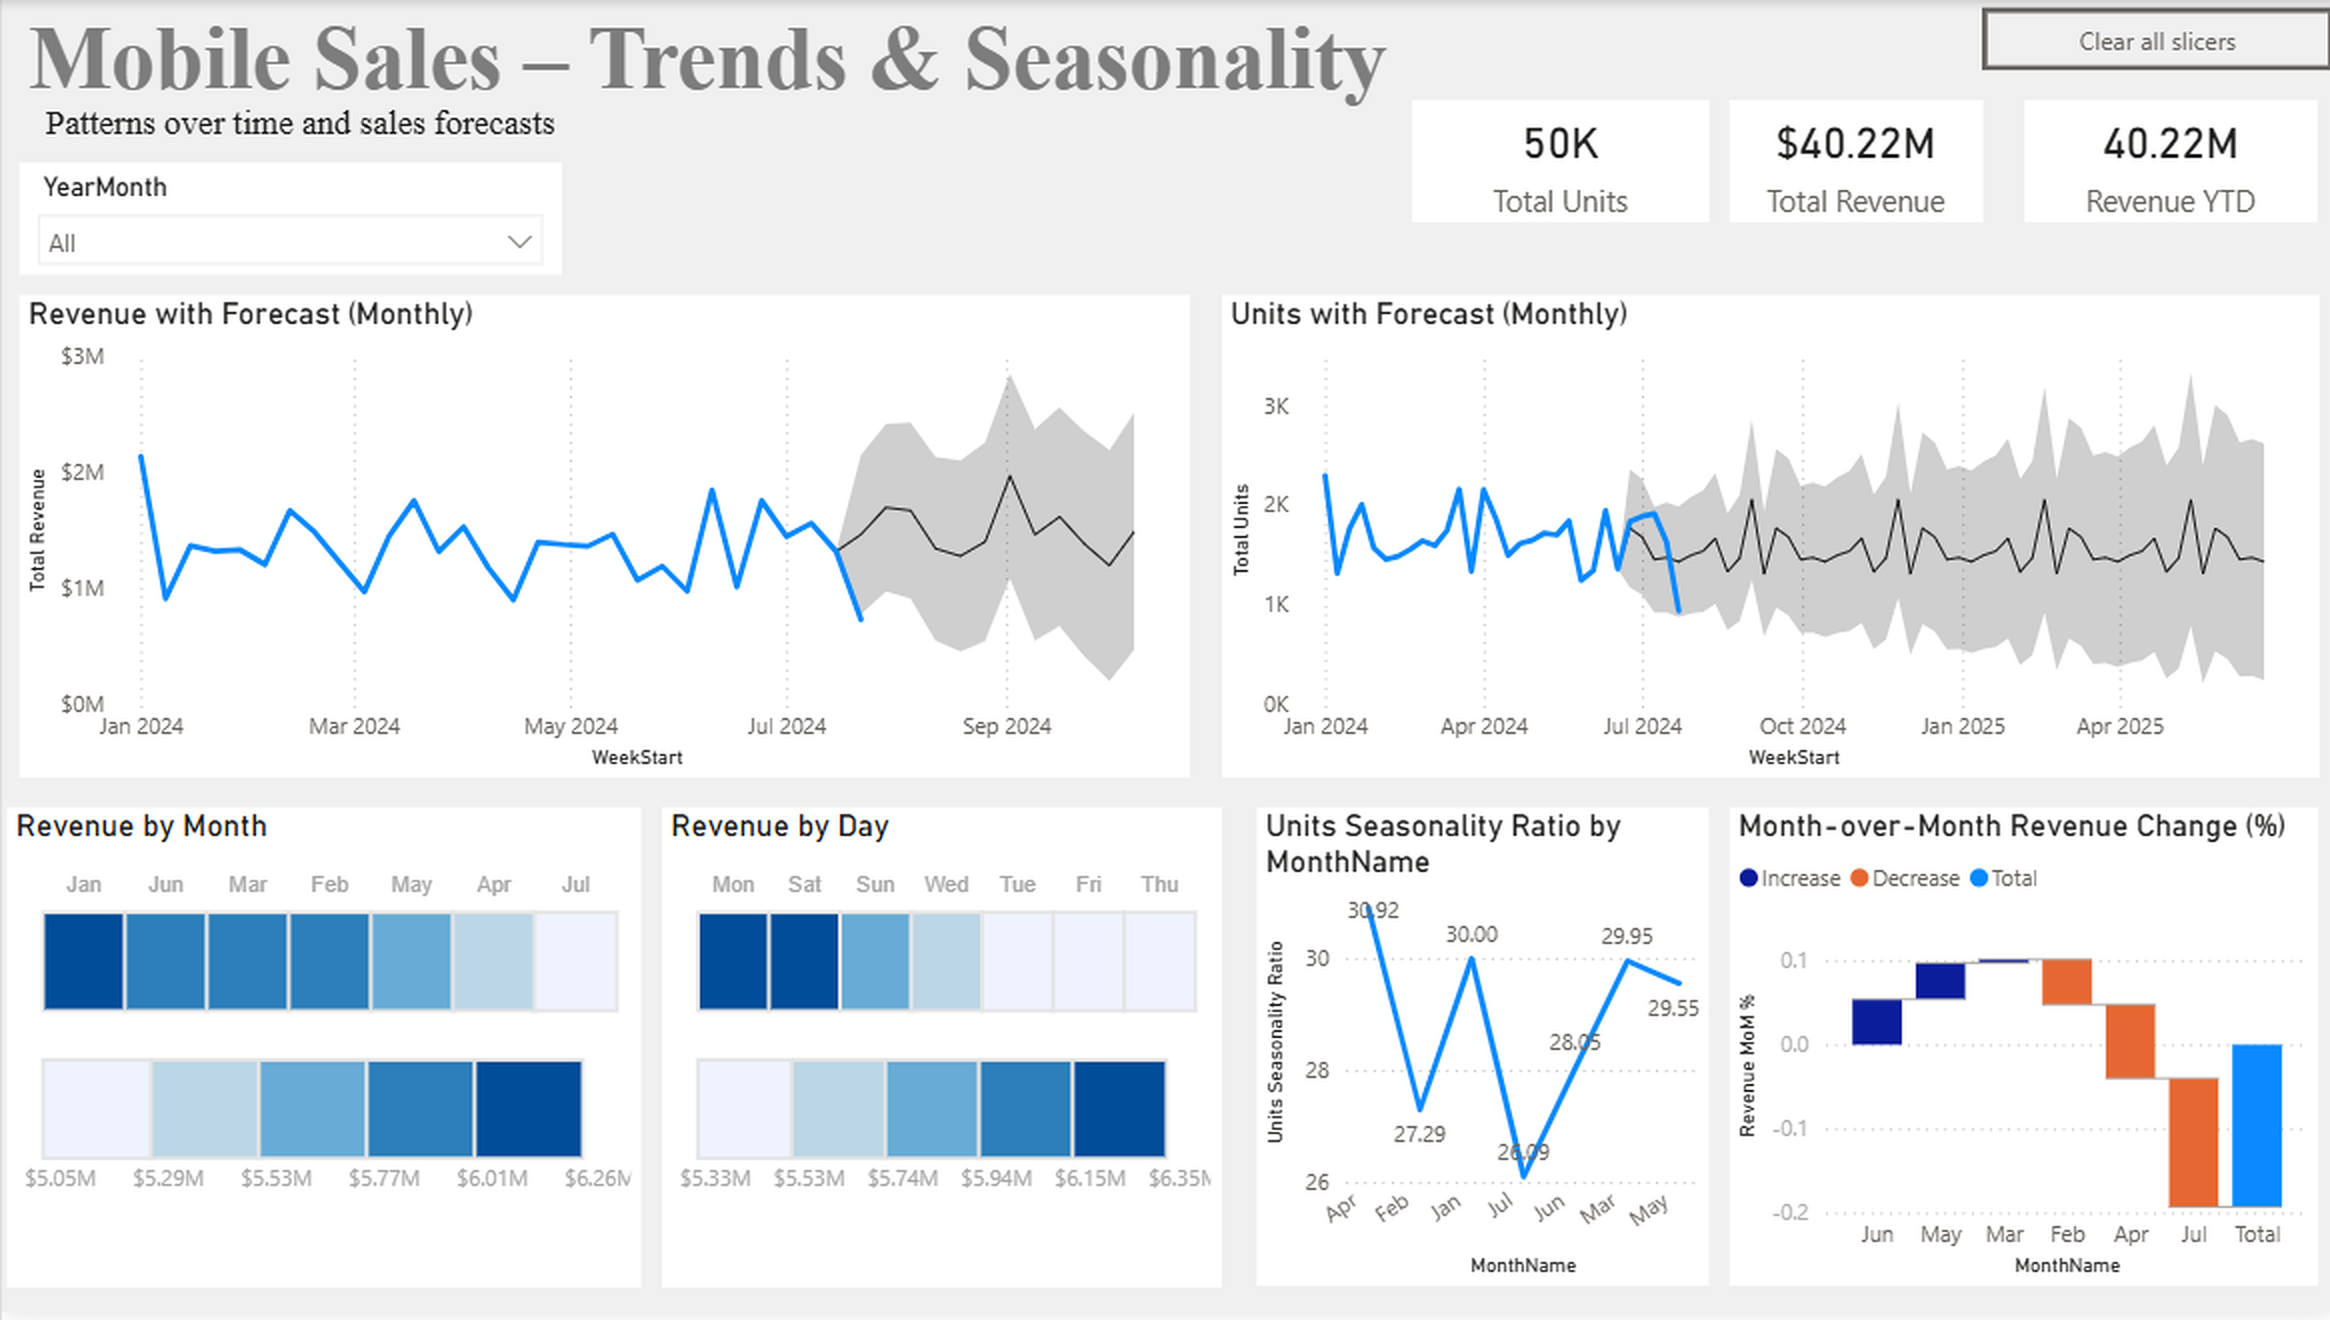

What the dashboard file says about the page in this screenshot:
{"tool":"powerbi","page":{"name":"Trends & Seasonality","canvas":[1280,720],"ordinal":1},"visuals":[{"type":"slicer","fields":{"Values":["Date.YearMonth"]},"box":[9,88.8,297.2,61.8],"z":0},{"type":"card","fields":{"Values":["Measures (2).Total Revenue"]},"box":[948.3,55.3,139,66.9],"z":1000},{"type":"card","fields":{"Values":["Measures (2).Revenue YTD"]},"box":[1110.4,55.3,160.8,66.9],"z":2000},{"type":"actionButton","box":[1087.3,3.9,193,34.7],"z":3000},{"type":"textbox","box":[9,0,1024.2,70.8],"z":4000},{"type":"textbox","box":[19.3,52.8,555.9,36],"z":5000},{"type":"waterfallChart","title":"Month-over-Month Revenue Change (%)","fields":{"Category":["Date.MonthName","Date.Year"],"Y":["Measures (2).Revenue MoM %"]},"box":[948.3,443.9,323,262.5],"z":6000},{"type":"TableHeatMap1443716069308","title":"Revenue by Month","fields":{"Category":["Date.MonthName"],"Y":["Measures (2).Total Revenue"]},"box":[2.6,443.9,347.4,262.5],"z":7000},{"type":"lineChart","fields":{"Category":["Date.MonthName"],"Y":["Measures (2).Units Seasonality Ratio"]},"box":[688.4,443.9,248.3,262.5],"z":8000},{"type":"lineChart","title":"Revenue with Forecast (Monthly)","fields":{"Y":["Measures (2).Total Revenue"],"Category":["DatE.WeekStart"]},"box":[9,162.1,642.1,265.1],"z":9000},{"type":"lineChart","title":"Units with Forecast (Monthly)","fields":{"Y":["Measures (2).Total Units"],"Category":["DatE.WeekStart"]},"box":[669.1,162.1,602.2,265.1],"z":10000},{"type":"TableHeatMap1443716069308","title":"Revenue by Day","fields":{"Category":["Date.DayName"],"Y":["Measures (2).Total Revenue"]},"box":[362.8,443.9,306.2,262.5],"z":11000},{"type":"card","fields":{"Values":["Measures (2).Total Units"]},"box":[773.3,55.3,163.4,66.9],"z":12000}]}

Visuals, with their boxes in screenshot pixels (x1, y1, x2, y2), scaled from the page's 1280x720 canvas onto the 2330x1320 screenshot:
slicer - Date.YearMonth: locate(16, 163, 557, 276)
card - Measures (2).Total Revenue: locate(1726, 101, 1979, 224)
card - Measures (2).Revenue YTD: locate(2021, 101, 2314, 224)
actionButton: locate(1979, 7, 2329, 71)
textbox: locate(16, 0, 1881, 130)
textbox: locate(35, 97, 1047, 163)
"Month-over-Month Revenue Change (%)" waterfallChart: locate(1726, 814, 2314, 1295)
"Revenue by Month" TableHeatMap1443716069308: locate(5, 814, 637, 1295)
lineChart - Date.MonthName x Measures (2).Units Seasonality Ratio: locate(1253, 814, 1705, 1295)
"Revenue with Forecast (Monthly)" lineChart: locate(16, 297, 1185, 783)
"Units with Forecast (Monthly)" lineChart: locate(1218, 297, 2314, 783)
"Revenue by Day" TableHeatMap1443716069308: locate(660, 814, 1218, 1295)
card - Measures (2).Total Units: locate(1408, 101, 1705, 224)
